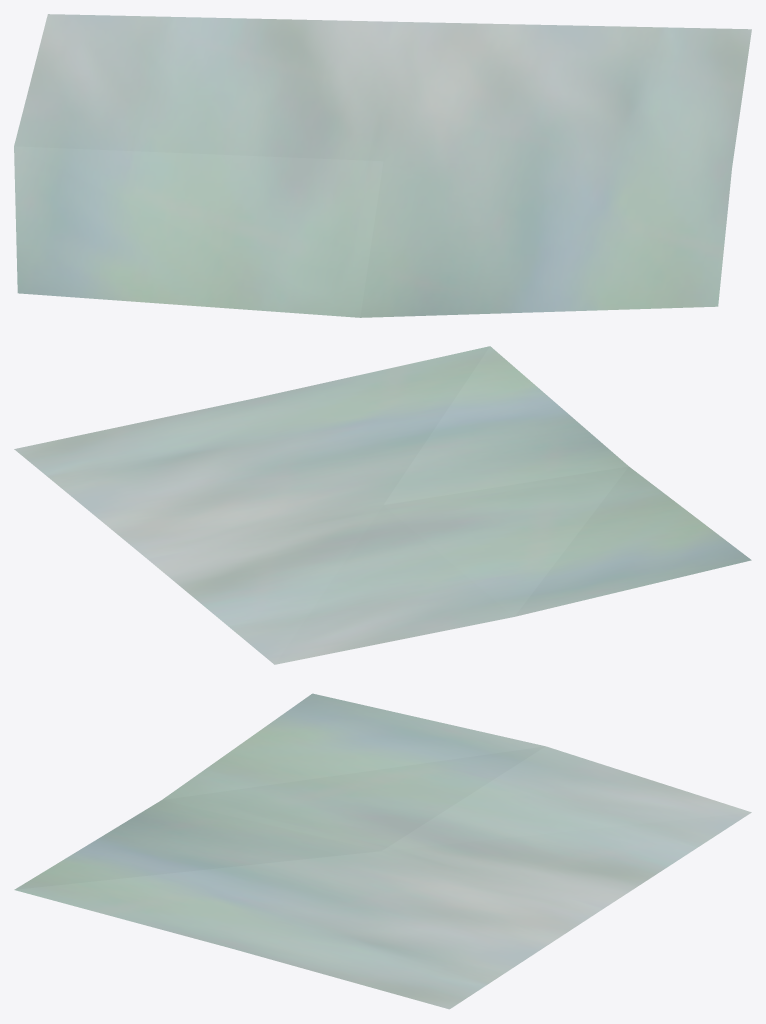
Rendered from Icicle_Top.gltf.
3 renders of one model, top to bottom at view 1: azimuth 30°, elevation 25°; view 2: azimuth 150°, elevation 25°; view 3: azimuth 270°, elevation 25°, orthographic. The views are drawn at different scales.
Visible parts, largest first — view 1: Icicle_Top; view 2: Icicle_Top; view 3: Icicle_Top.
Boxes of the visible parts, box(x1,y1,x2,y2) form: Icicle_Top: box(14, 14, 751, 317); Icicle_Top: box(14, 346, 751, 664); Icicle_Top: box(14, 693, 751, 1009).
Size of the model in its own units: 30.34 by 0.6419 by 29.94.
1 material, 1 textured.
